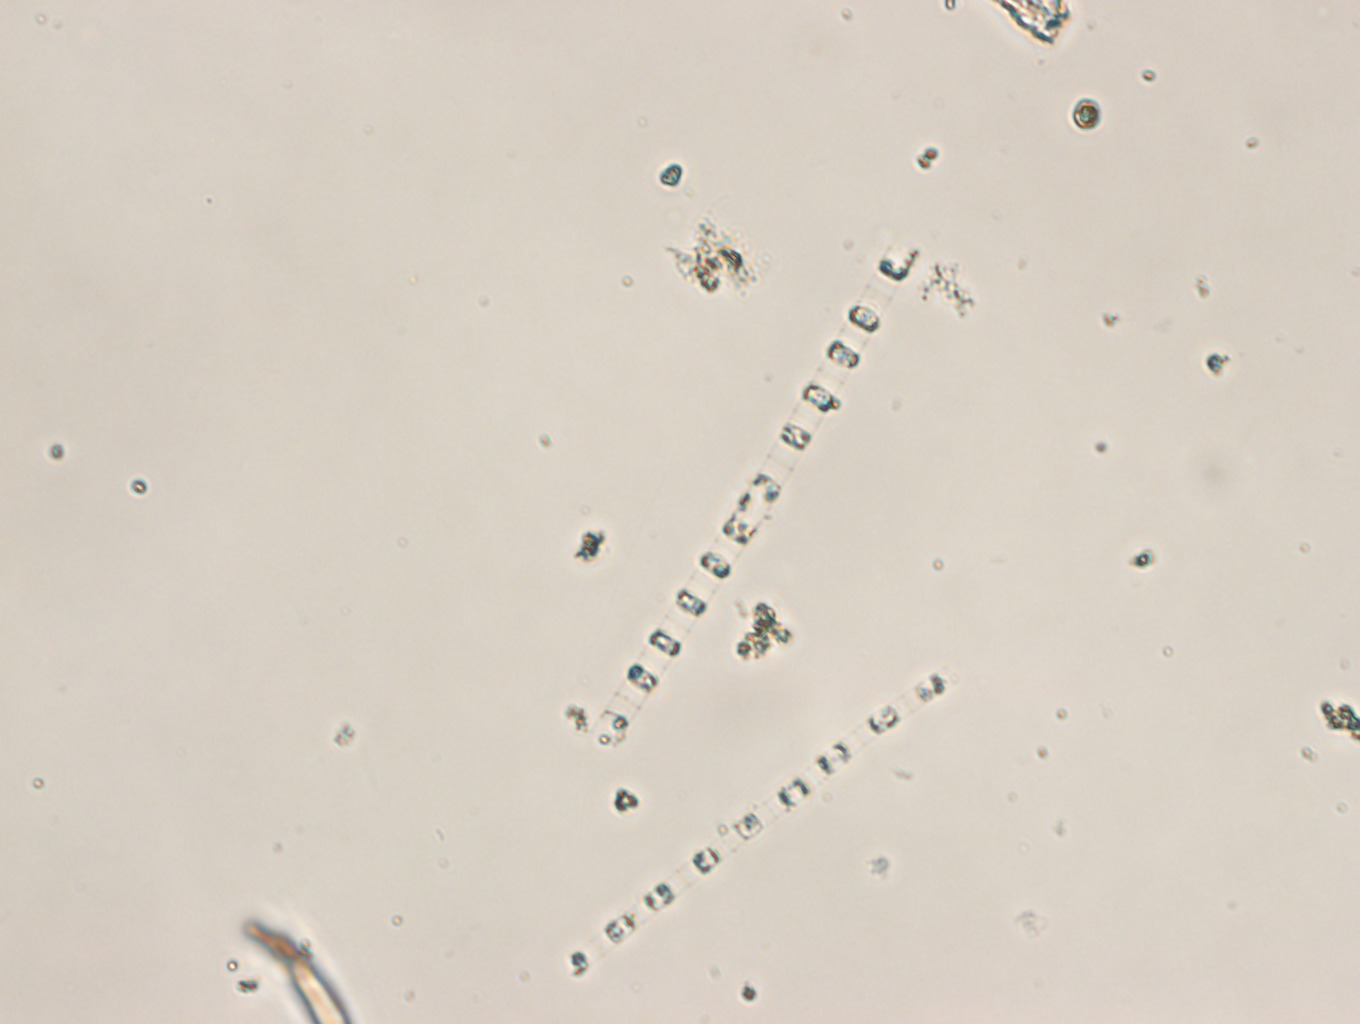skeletonema: (553, 226, 927, 753), (519, 655, 969, 995)
